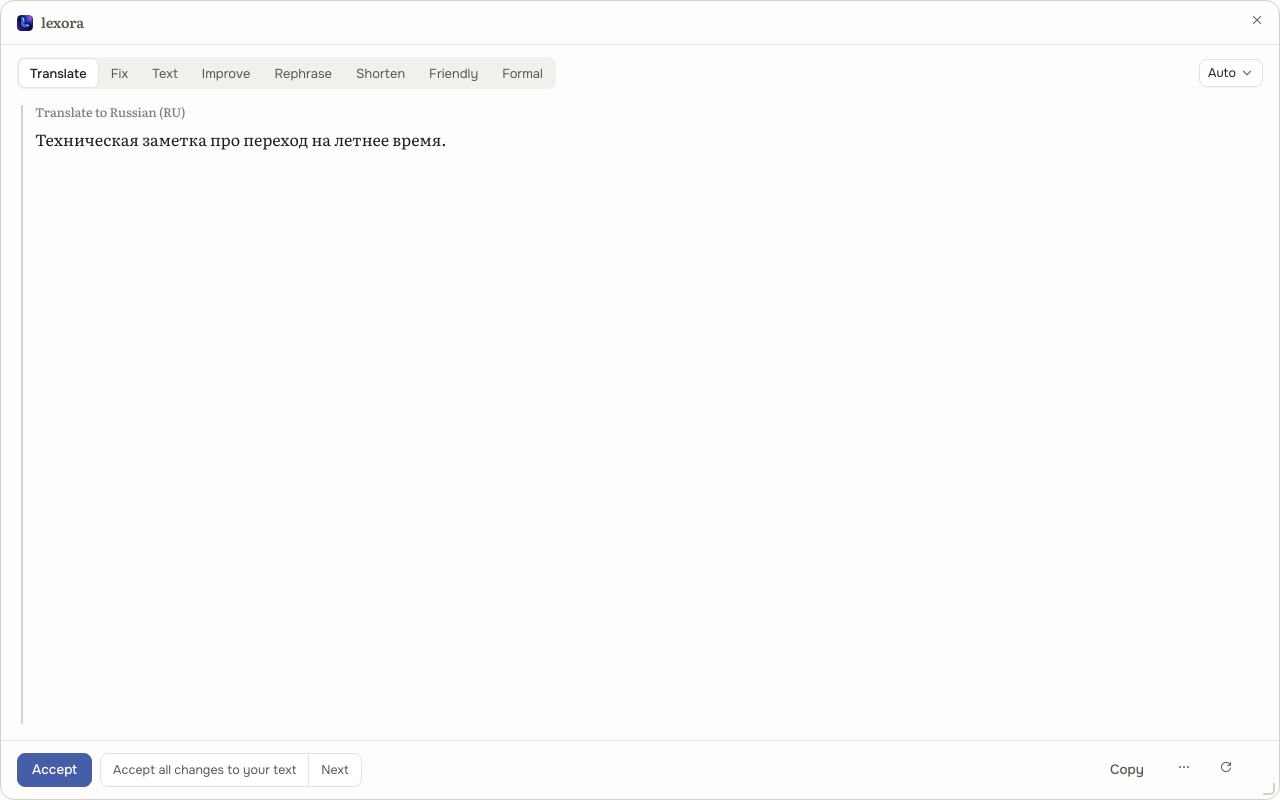
InlineAssistantWidget › clears the Text-tab compose field and translation output
Check: the text "Техническая заметка про переход на летнее время." is shown, box [35, 127, 447, 151]
Click the tab with aria-label "Text (2)".
click(165, 73)  # box [141, 59, 189, 87]
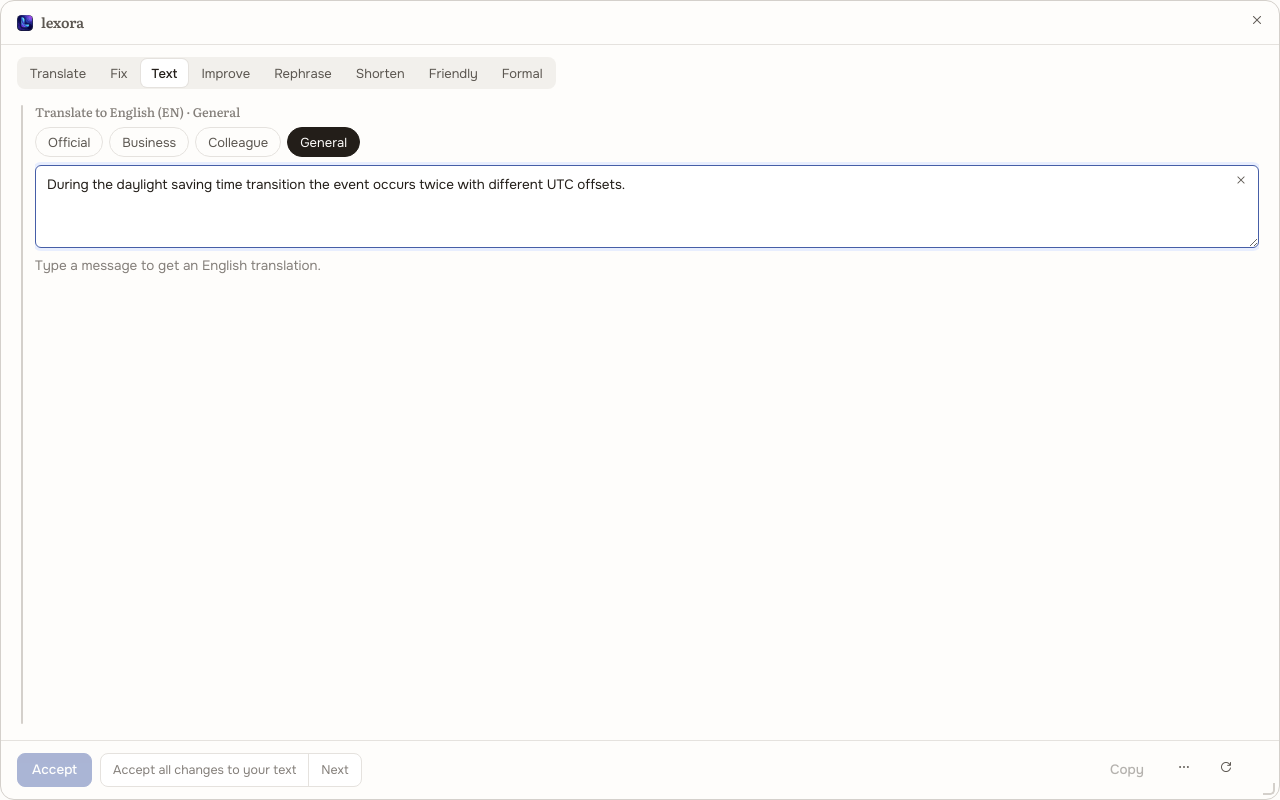
Check: the text box named "Text to translate" holds "During the daylight saving time transition the event occurs twice with different UTC offsets.", box [35, 165, 1259, 248]
Check: the button named "Clear text" is shown
Click the button named "Clear text".
click(1241, 183)  # box [1227, 169, 1255, 197]
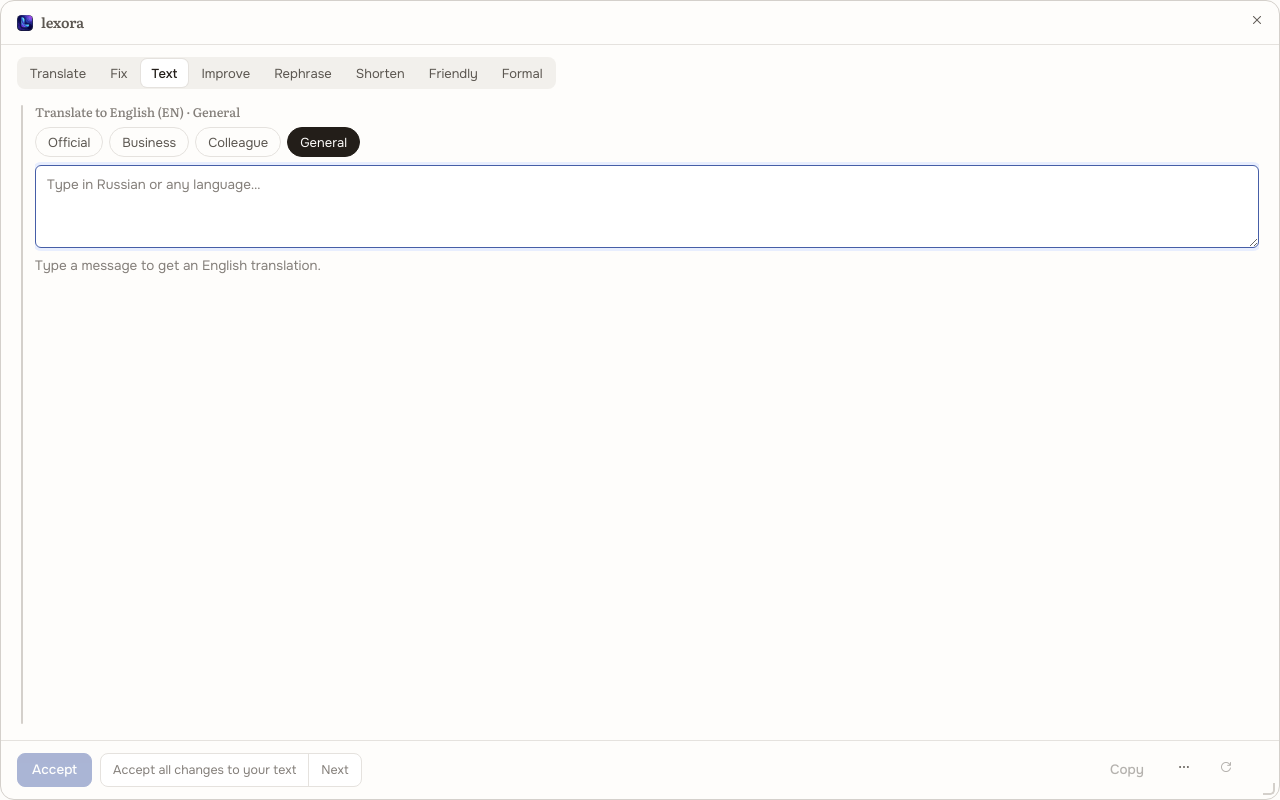
Check: the text "Type a message to get an English translation." is shown, box [35, 257, 321, 274]
Check: the text box named "Text to translate" is empty, box [35, 165, 1259, 248]
